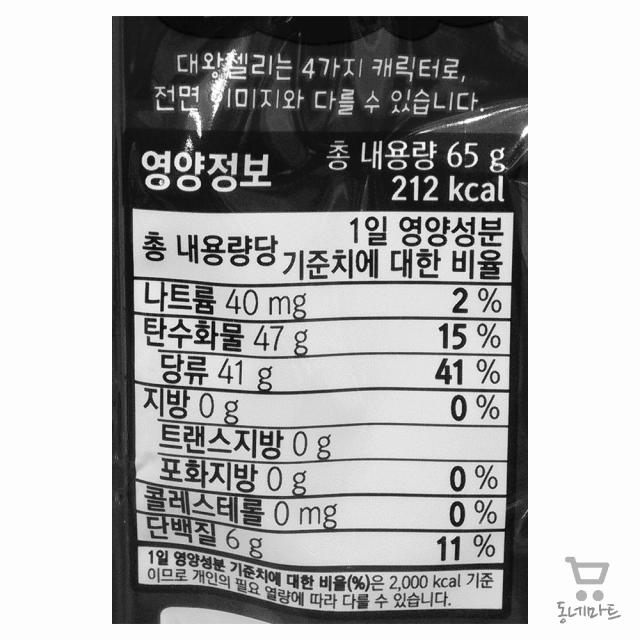Nutrition Label: (102, 128, 525, 633)
